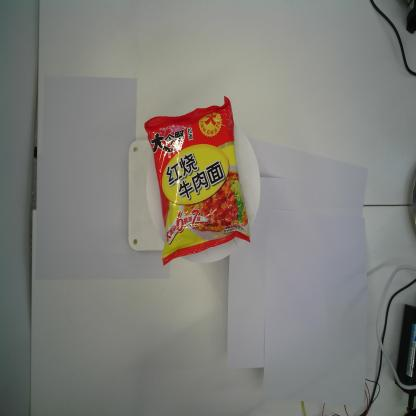Instant Noodles: (143, 93, 253, 266)
